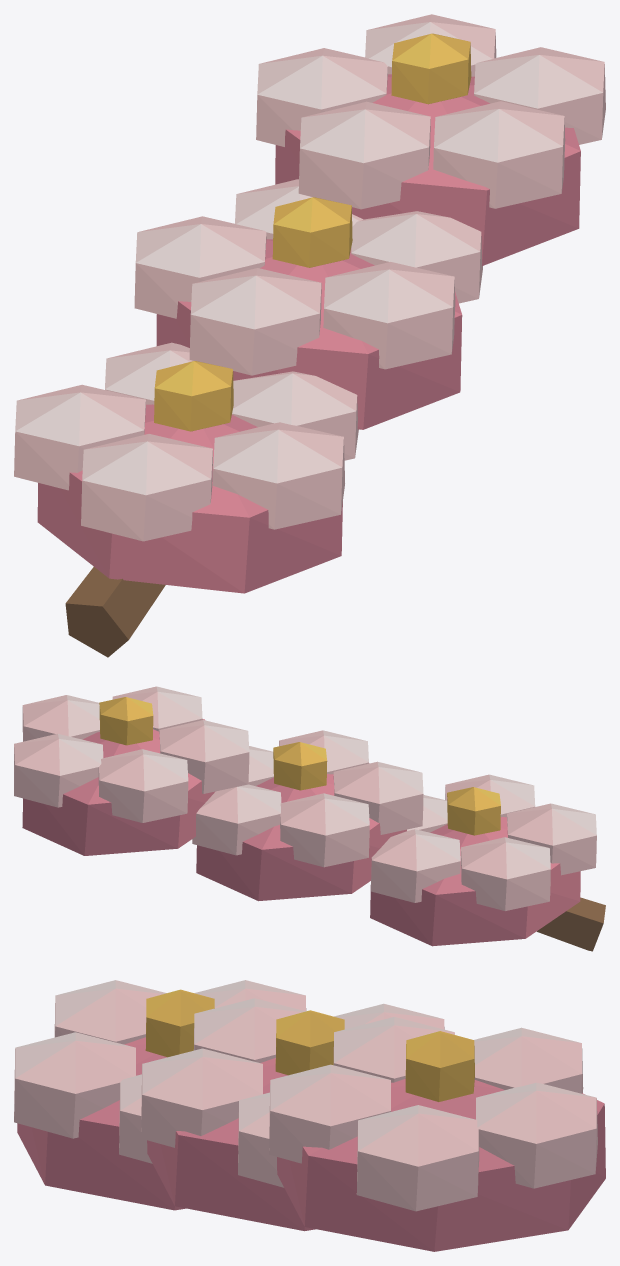
Rendered from season_find_spring.glb.
The picture shows the model from 3 angles, top to bottom: view 1: azimuth 30°, elevation 25°; view 2: azimuth 150°, elevation 25°; view 3: azimuth 270°, elevation 25°; orthographic projection. The views are drawn at different scales.
Visible parts, largest first — view 1: Saisonfund · spring; view 2: Saisonfund · spring; view 3: Saisonfund · spring.
Part boxes in pixels (box(x1,y1,x2,y2)): Saisonfund · spring: box(14, 14, 605, 657); Saisonfund · spring: box(14, 686, 605, 951); Saisonfund · spring: box(14, 980, 605, 1251).
Bounding box in the file's own units: 0.5961 × 0.3087 × 0.4558.
